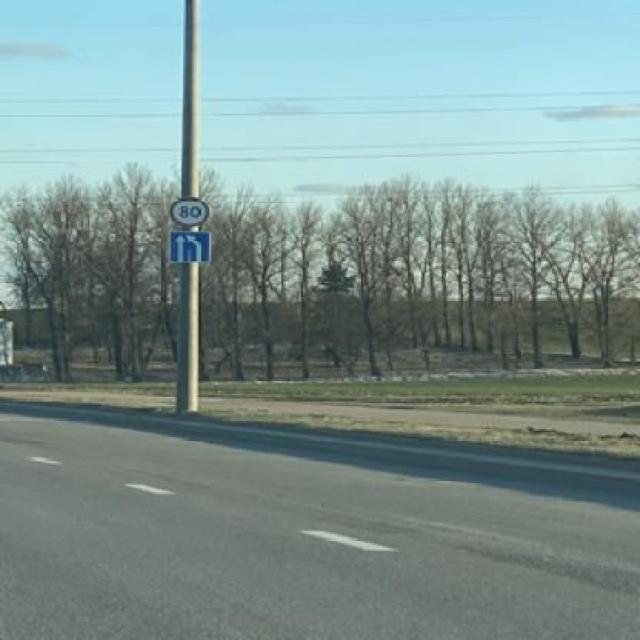forb_speed_over_80: (168, 195, 208, 227)
